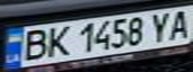1: (75, 20, 96, 53)
4: (93, 17, 115, 52)
5: (109, 16, 130, 50)
8: (124, 14, 151, 47)
A: (163, 7, 193, 40)
B: (15, 26, 51, 62)
K: (42, 24, 72, 57)
Y: (145, 10, 175, 43)
